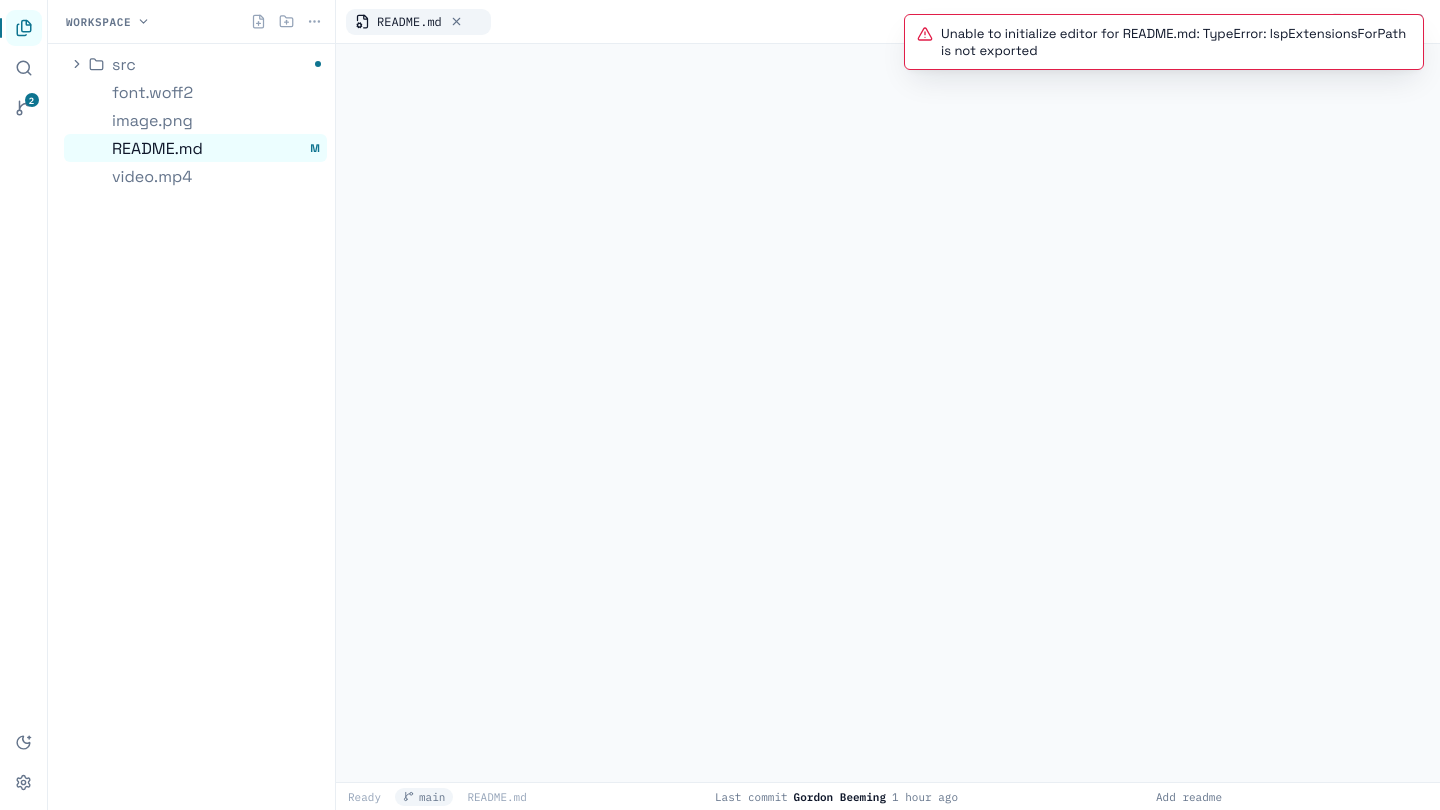
it: App shell interactions › renders the commit body for a multi-line message and omits it for a single-line one
Click the text "Last commit" at point(751, 796), box [715,790,788,804]
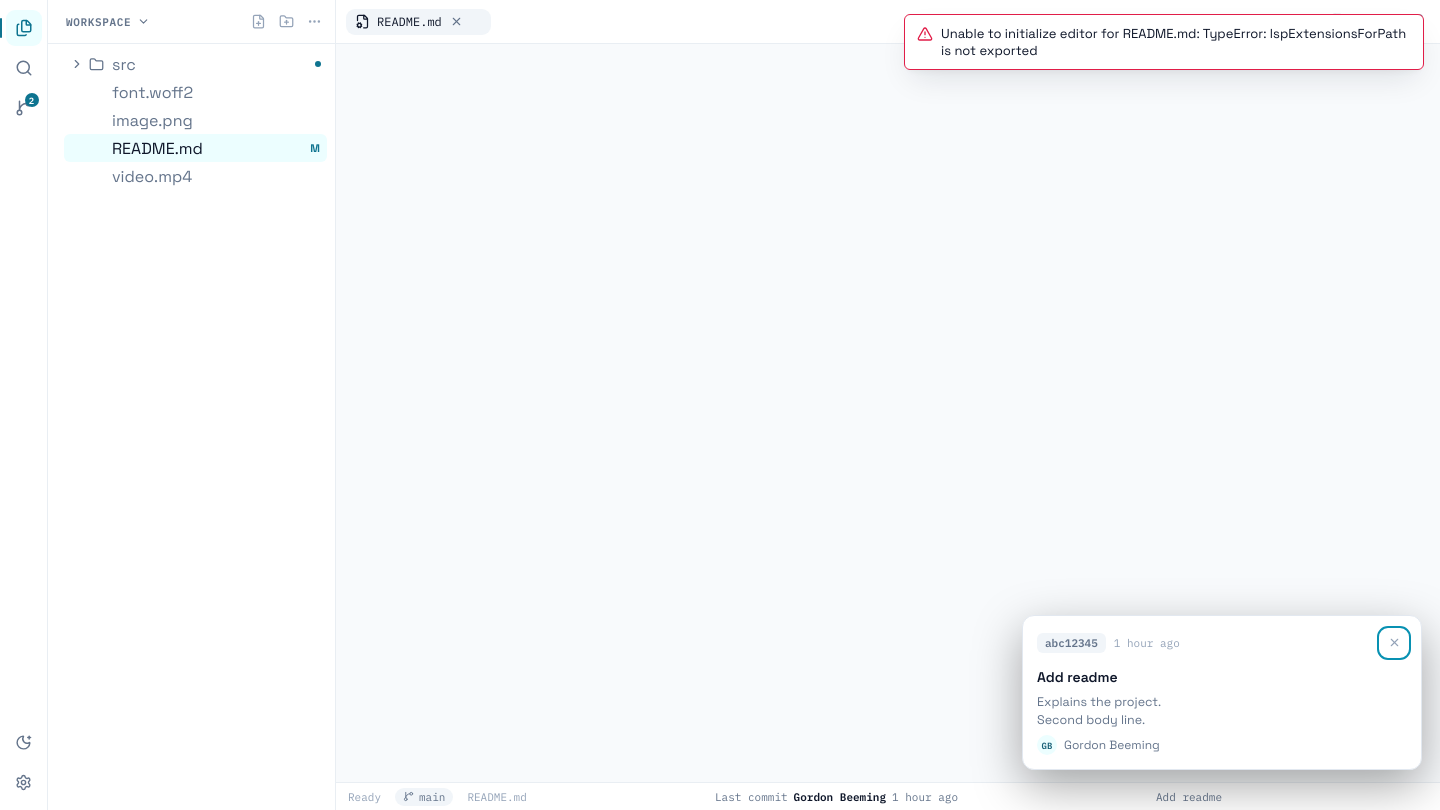
Expected: the dialog named "Git commit details" is shown, [1022,615,1422,770]
